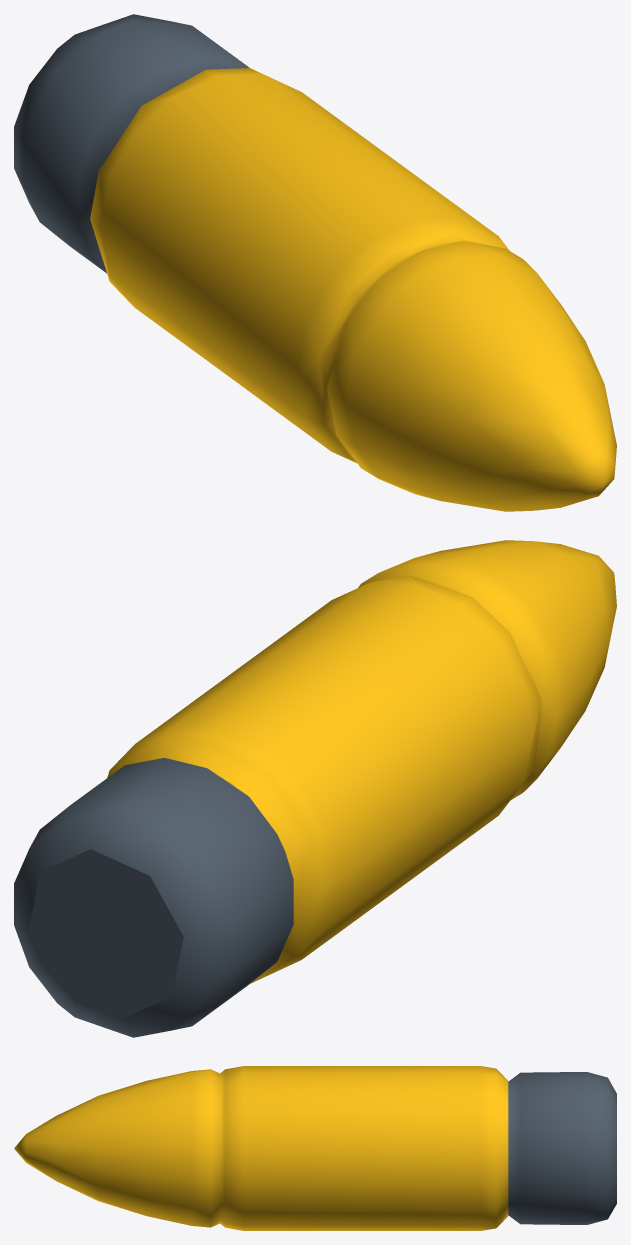
The model's file is rapid.glb.
3 views of the same model, one above another, from view 1: azimuth 30°, elevation 25°; view 2: azimuth 150°, elevation 25°; view 3: azimuth 270°, elevation 25° (orthographic). The views are drawn at different scales.
Visible parts, largest first — view 1: Projectile; view 2: Projectile; view 3: Projectile.
Boxes of the visible parts, x1,y1,x2,y2 form: Projectile: (14, 14, 616, 511); Projectile: (14, 540, 616, 1037); Projectile: (14, 1066, 616, 1230).
Bounding box in the file's own units: 0.052 × 0.052 × 0.19.
